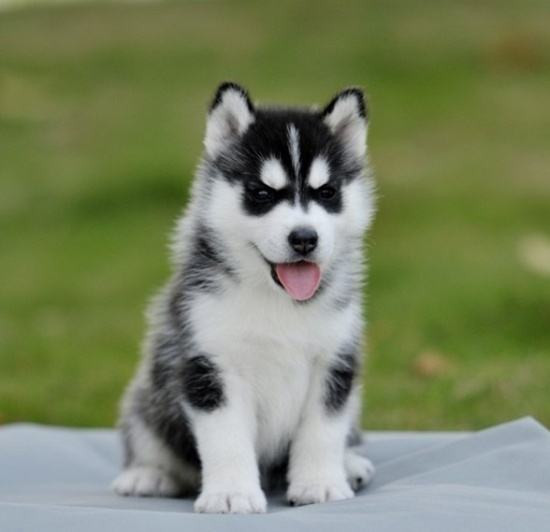dog: (114, 80, 377, 514)
